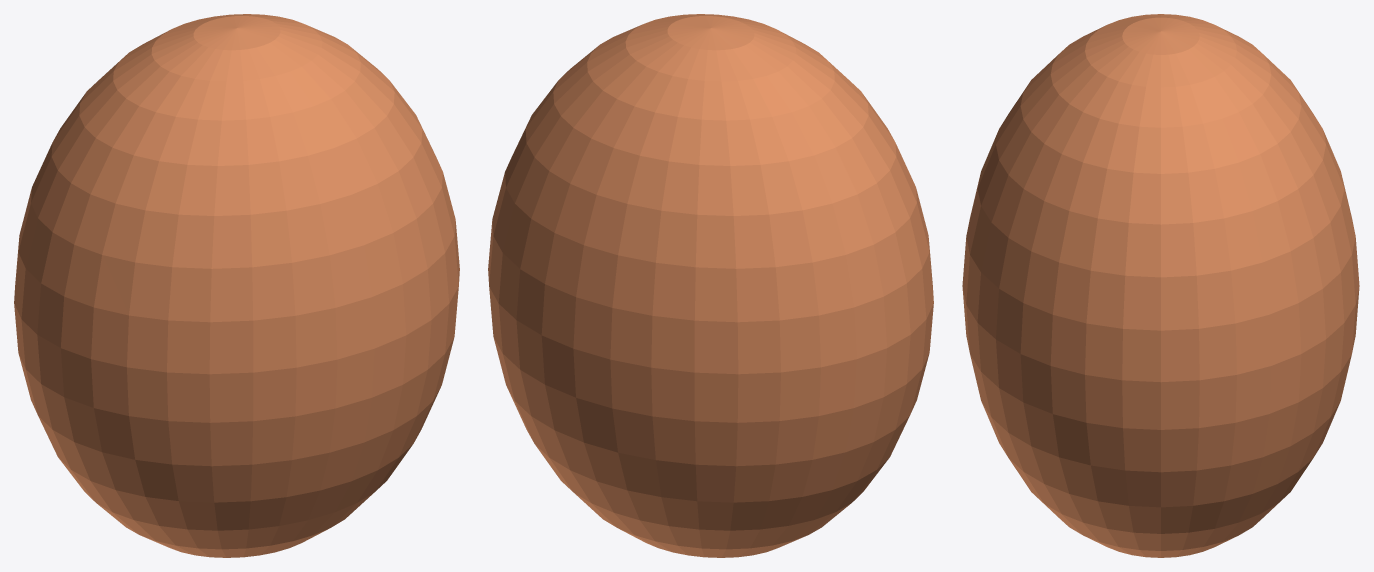
The model's file is Head.obj.
3 views of the same model, side by side, from view 1: azimuth 30°, elevation 25°; view 2: azimuth 150°, elevation 25°; view 3: azimuth 270°, elevation 25° (orthographic).
Parts seen in each view (by area): view 1: Head; view 2: Head; view 3: Head.
Part boxes in pixels (bbox=[...]): Head: bbox=[14, 14, 459, 557]; Head: bbox=[488, 14, 933, 557]; Head: bbox=[962, 14, 1359, 557].
Size of the model in its own units: 0.47 by 0.58 by 0.41.
